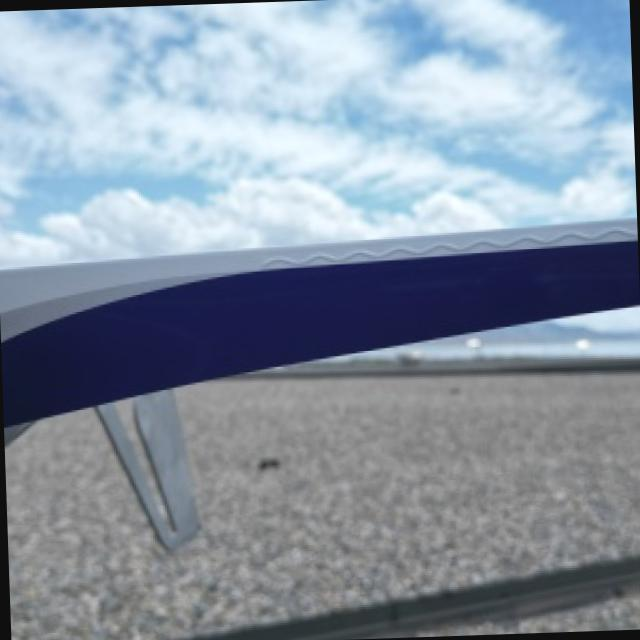healthy: (101, 389, 199, 543)
